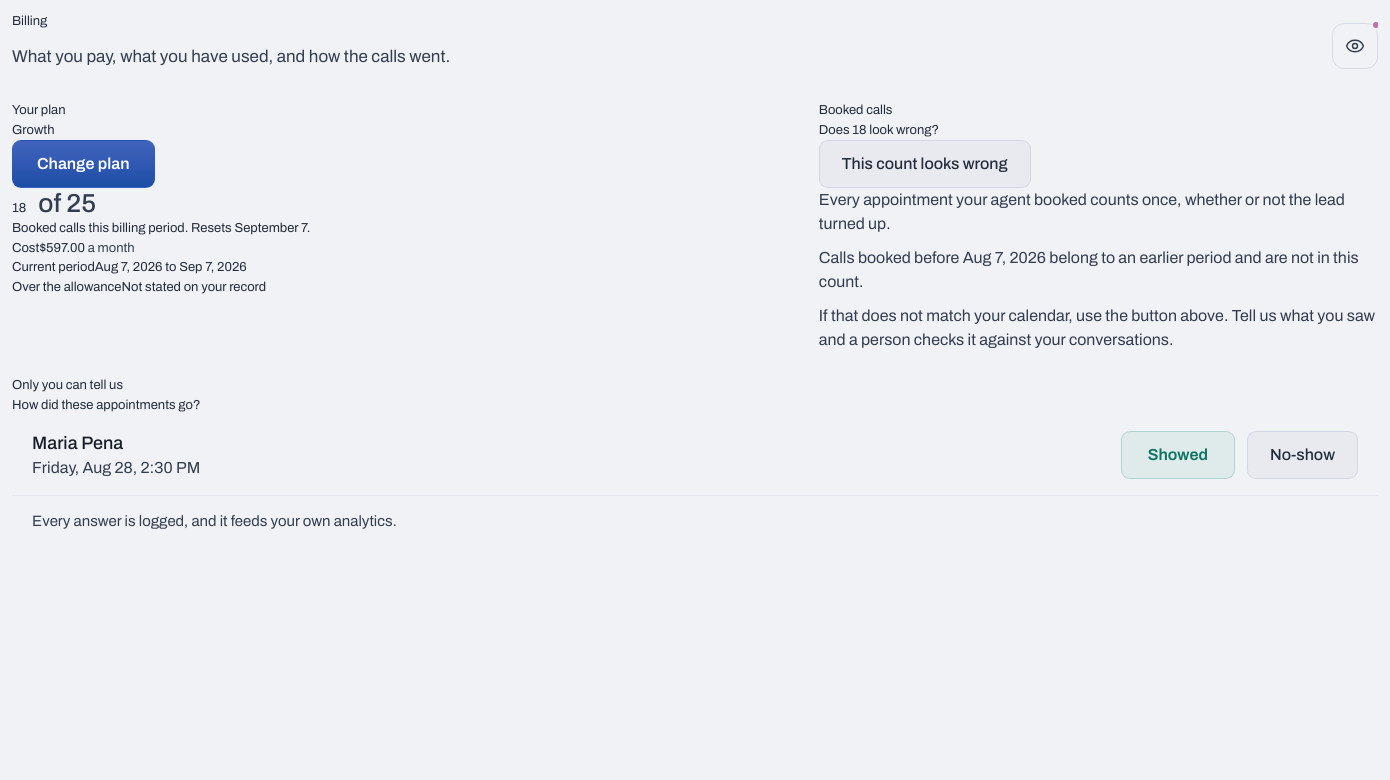
Scenario: CoachBillingRehaul, against Billing.dc.html › hides the correction box behind one button and offers no picker
Check: the field labelled "What should the count be" is not shown
Click the button "This count looks wrong" at {"x": 925, "y": 164}, box [819,140,1031,188]
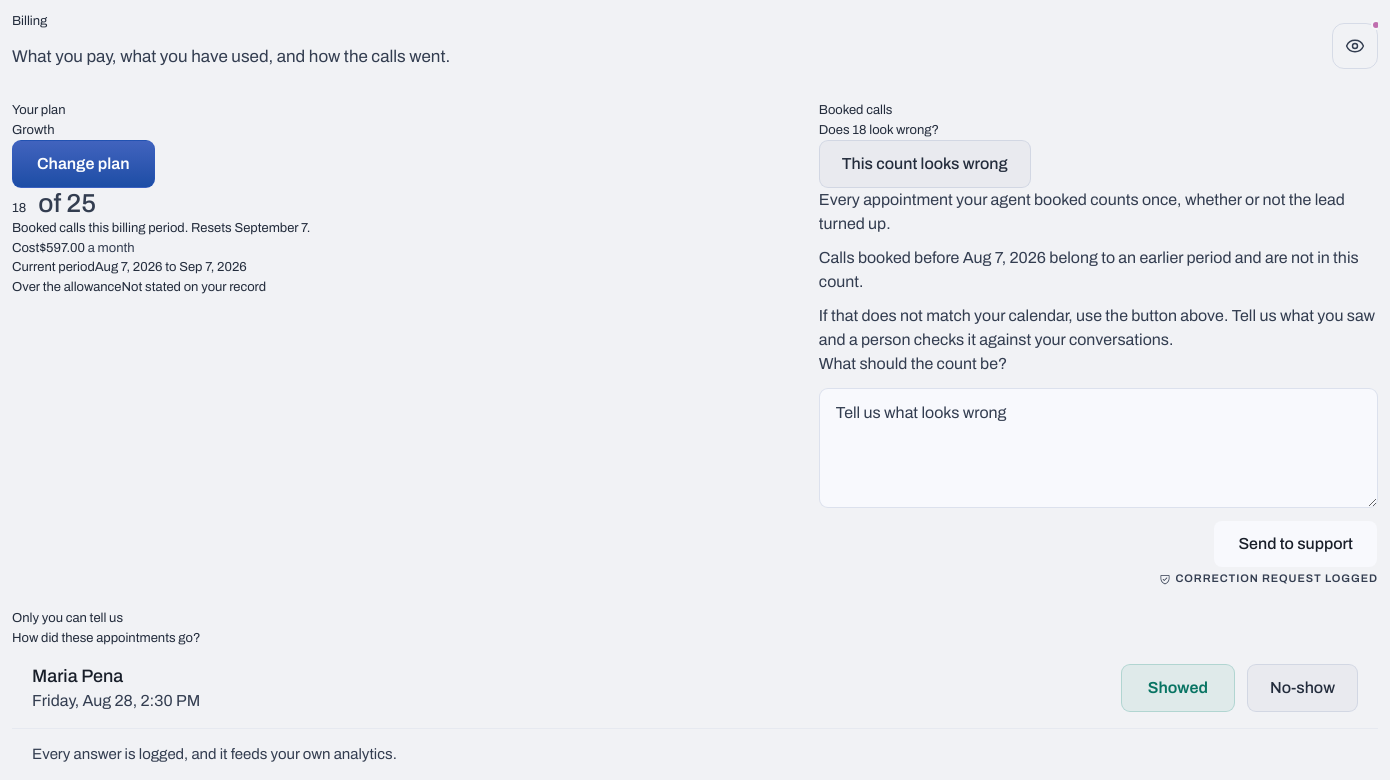
Check: the text box labelled "What should the count be?" is shown, box [819,388,1378,508]
Check: the button "Send to support" is shown, box [1213,520,1378,568]
